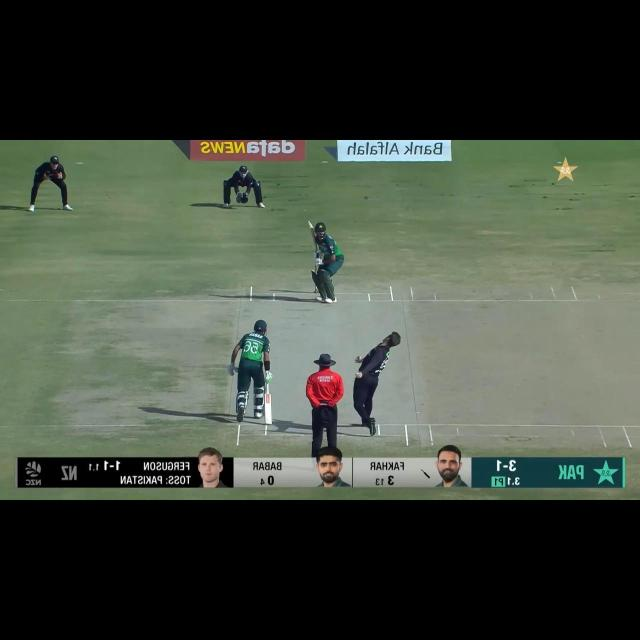bat: (308, 221, 318, 252), (264, 395, 273, 425)
toe: (307, 220, 314, 228), (264, 420, 273, 426)
